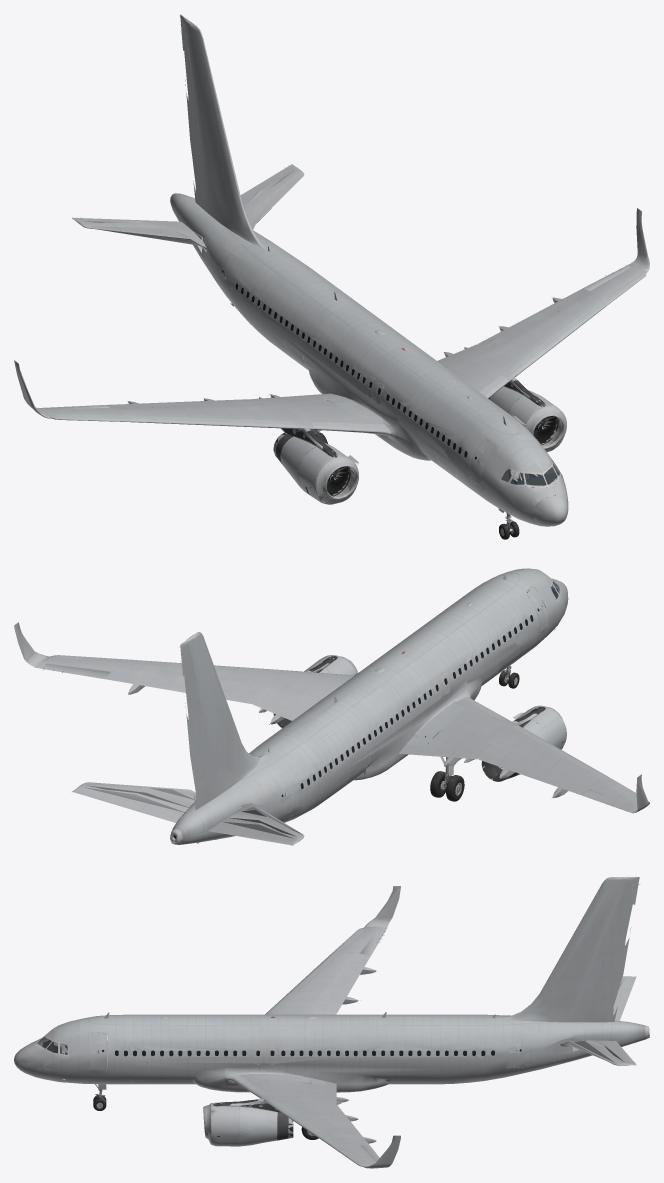
The model's file is avion_a320_realiste.m.glb.
The picture shows the model from 3 angles, top to bottom: view 1: azimuth 30°, elevation 25°; view 2: azimuth 150°, elevation 25°; view 3: azimuth 270°, elevation 25°; orthographic projection. The views are drawn at different scales.
Visible parts, largest first — view 1: peau, cellule; view 2: peau, cellule, train_principal; view 3: peau, cellule.
Part boxes in pixels (x1,y1,x2,y2): peau: [14, 14, 649, 526]; cellule: [43, 193, 640, 521]; peau: [14, 568, 649, 845]; cellule: [44, 579, 620, 844]; train_principal: [430, 757, 464, 801]; peau: [14, 877, 649, 1168]; cellule: [26, 931, 649, 1146].
Bounding box in the file's own units: 34.9 × 15.23 × 37.56.
Materials: 11 (9 with a texture image).
